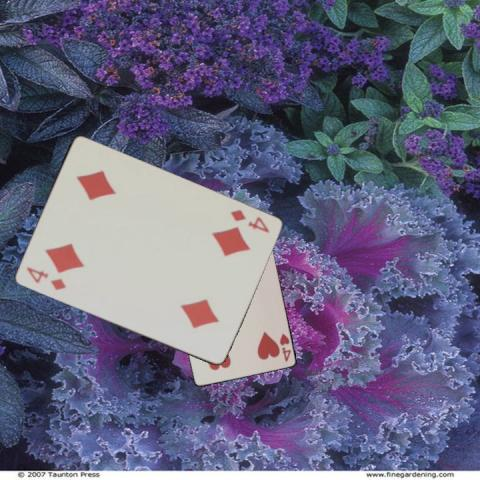4d: (23, 264, 67, 292), (226, 206, 270, 234)
4h: (277, 330, 292, 363)
